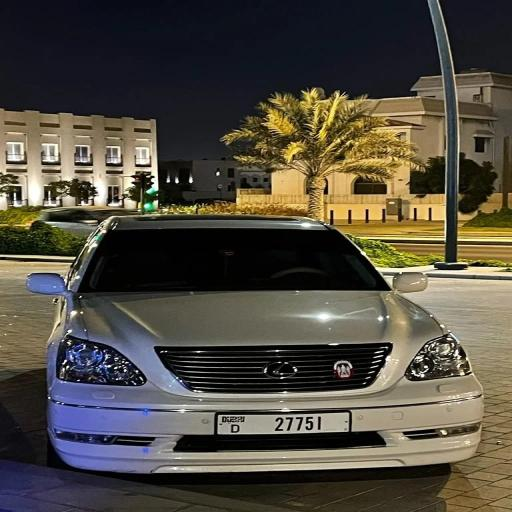license-plates: (218, 413, 349, 434)
